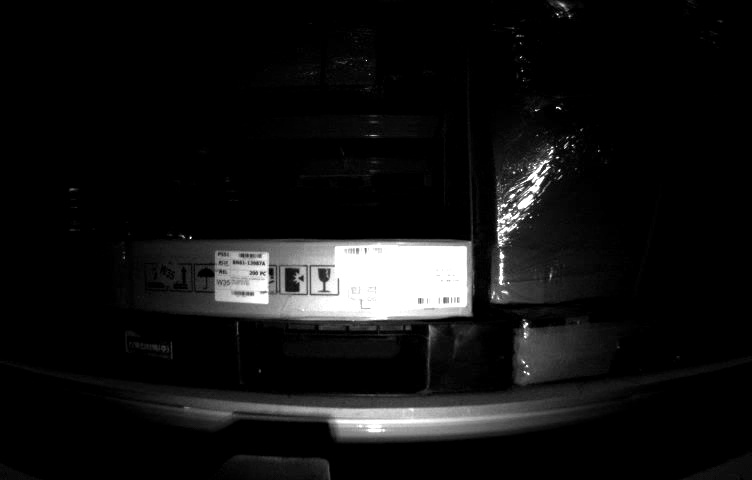True Barcode: (212, 246, 270, 304)
